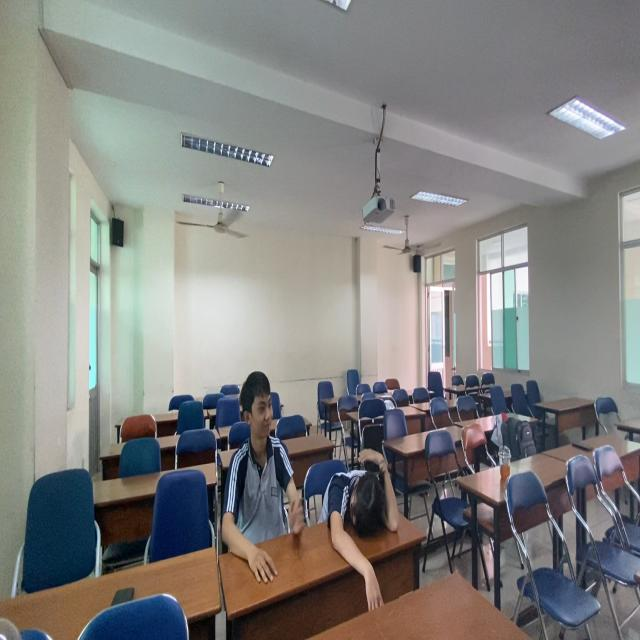sleep: (318, 443, 405, 557)
